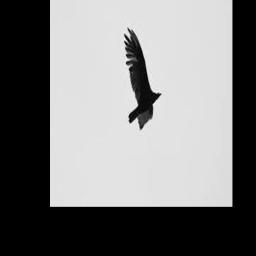Crow: (124, 26, 163, 129)
